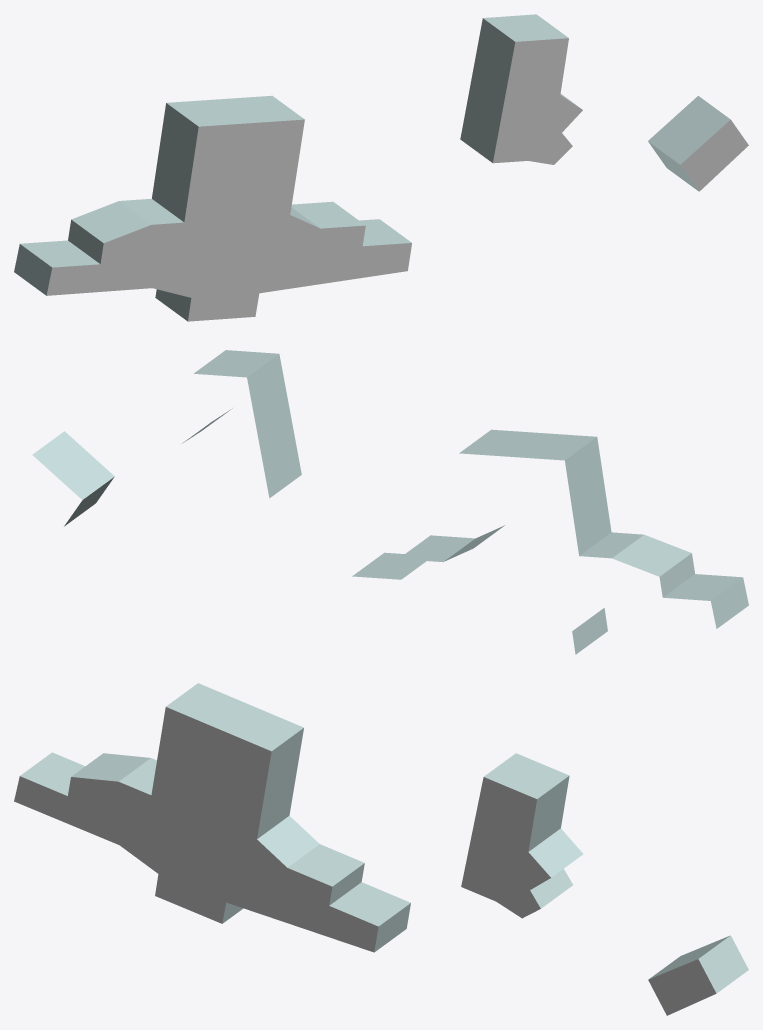
3 renders of one model, top to bottom at view 1: azimuth 30°, elevation 25°; view 2: azimuth 150°, elevation 25°; view 3: azimuth 330°, elevation 25°, orthographic.
Parts seen in each view (by area): view 1: 0_2_3_3_0_3_3_3_1; view 2: 0_2_3_3_0_3_3_3_1; view 3: 0_2_3_3_0_3_3_3_1.
Part boxes in pixels (x1,y1,x2,y2): 0_2_3_3_0_3_3_3_1: (14, 14, 748, 321); 0_2_3_3_0_3_3_3_1: (32, 350, 748, 654); 0_2_3_3_0_3_3_3_1: (14, 683, 748, 1015).
Size of the model in its own units: 37.45 by 10.71 by 3.1.
